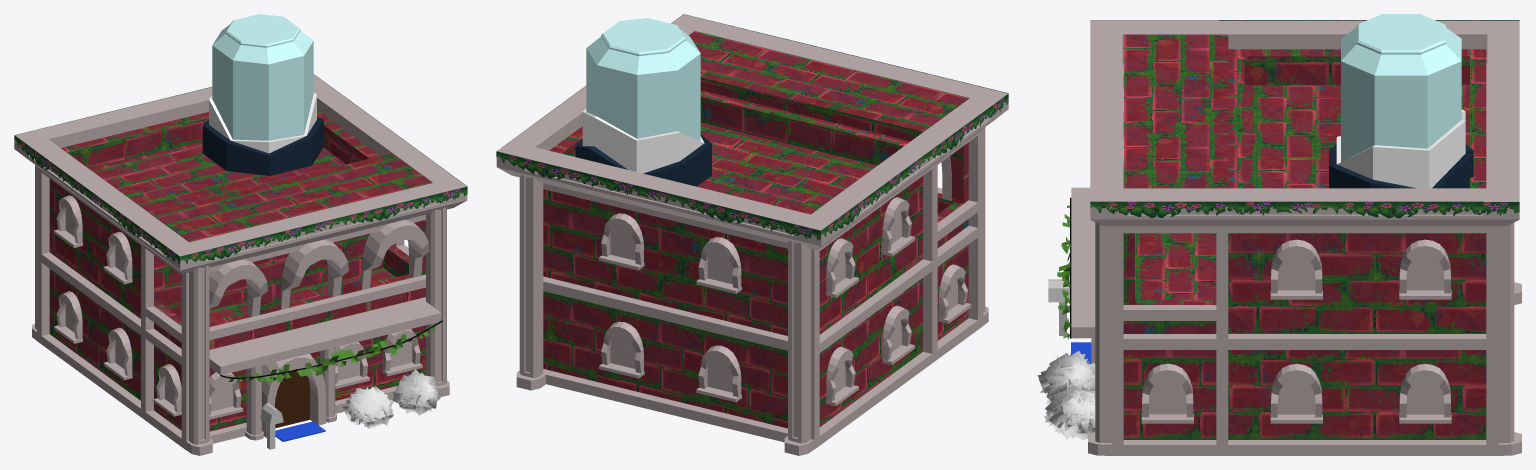
The model's file is ArtNouveau_SolarHouse_1.fbx.
3 views of the same model, side by side, from view 1: azimuth 30°, elevation 25°; view 2: azimuth 150°, elevation 25°; view 3: azimuth 270°, elevation 25° (orthographic). The views are drawn at different scales.
Visible parts, largest first — view 1: Stone, House Base, TankGlass, FlowerVineRoofTex, TankBaseTrim, Bushes, WindowGlass, FlowerVine, Door, TankBase, Doormat, Mailbox; view 2: House Base, Stone, TankGlass, FlowerVineRoofTex, WindowGlass, TankBase, TankBaseTrim; view 3: House Base, Stone, TankGlass, WindowGlass, FlowerVineRoofTex, TankBase, Bushes, TankBaseTrim, FlowerVine, Mailbox.
Boxes of the visible parts, box(x1,y1,x2,y2) form: Stone: box(14, 74, 467, 455); House Base: box(49, 110, 431, 431); TankGlass: box(212, 14, 313, 140); FlowerVineRoofTex: box(14, 75, 467, 264); TankBaseTrim: box(202, 117, 323, 175); Bushes: box(343, 369, 440, 428); WindowGlass: box(65, 208, 412, 411); FlowerVine: box(220, 320, 442, 382); Door: box(274, 369, 309, 428); TankBase: box(209, 92, 316, 153); Doormat: box(275, 421, 325, 441); Mailbox: box(260, 403, 283, 449); House Base: box(543, 31, 968, 428); Stone: box(496, 14, 1008, 455); TankGlass: box(586, 18, 700, 141); FlowerVineRoofTex: box(496, 14, 1008, 240); WindowGlass: box(610, 212, 957, 393); TankBase: box(582, 109, 704, 173); TankBaseTrim: box(575, 134, 711, 186); House Base: box(1123, 34, 1486, 439); Stone: box(1071, 20, 1521, 455); TankGlass: box(1341, 14, 1461, 161); WindowGlass: box(1149, 256, 1444, 414); FlowerVineRoofTex: box(1090, 20, 1519, 218); TankBase: box(1336, 109, 1465, 188); Bushes: box(1037, 351, 1095, 440); TankBaseTrim: box(1329, 145, 1473, 188); FlowerVine: box(1057, 197, 1076, 339); Mailbox: box(1048, 279, 1069, 335).
Size of the model in its own units: 6.67 by 7.52 by 6.61.
